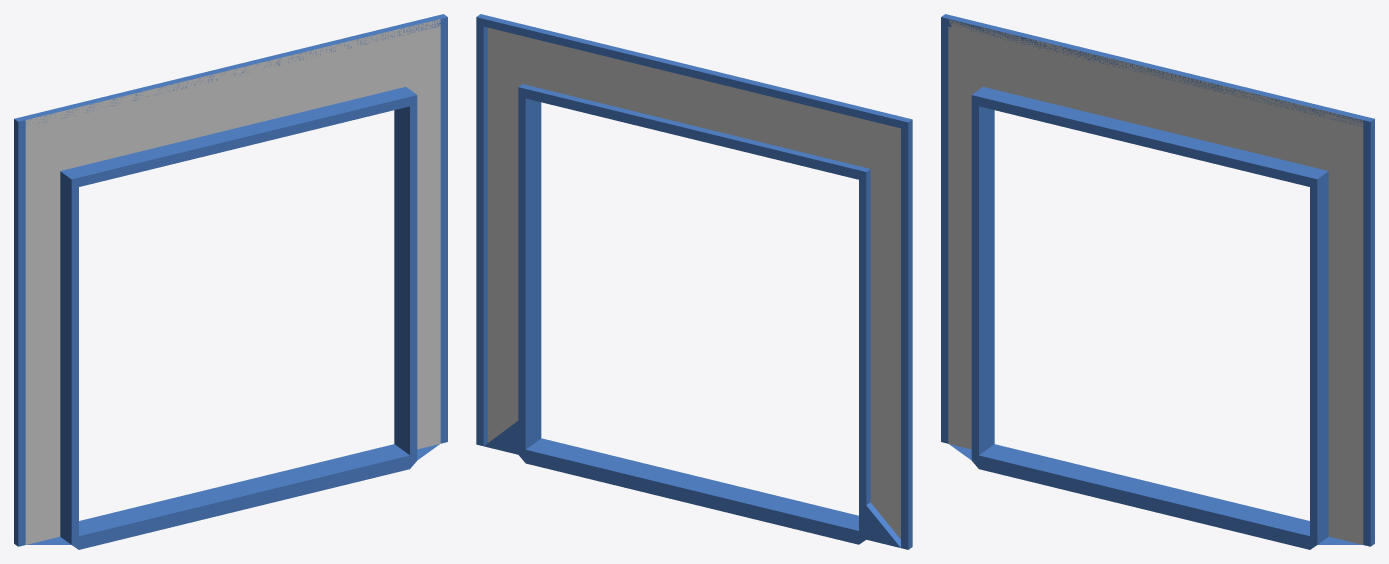
File: RoomDoor.fbx
3 renders of one model, left to right at view 1: azimuth 30°, elevation 25°; view 2: azimuth 150°, elevation 25°; view 3: azimuth 330°, elevation 25°, orthographic.
Parts seen in each view (by area): view 1: Cube.009; view 2: Cube.009; view 3: Cube.009.
Part boxes in pixels (left/top/right/bottom): Cube.009: left=14, top=14, right=447, bottom=549; Cube.009: left=476, top=14, right=912, bottom=549; Cube.009: left=941, top=14, right=1374, bottom=549.
Size of the model in its own units: 656 by 630 by 41.2.
